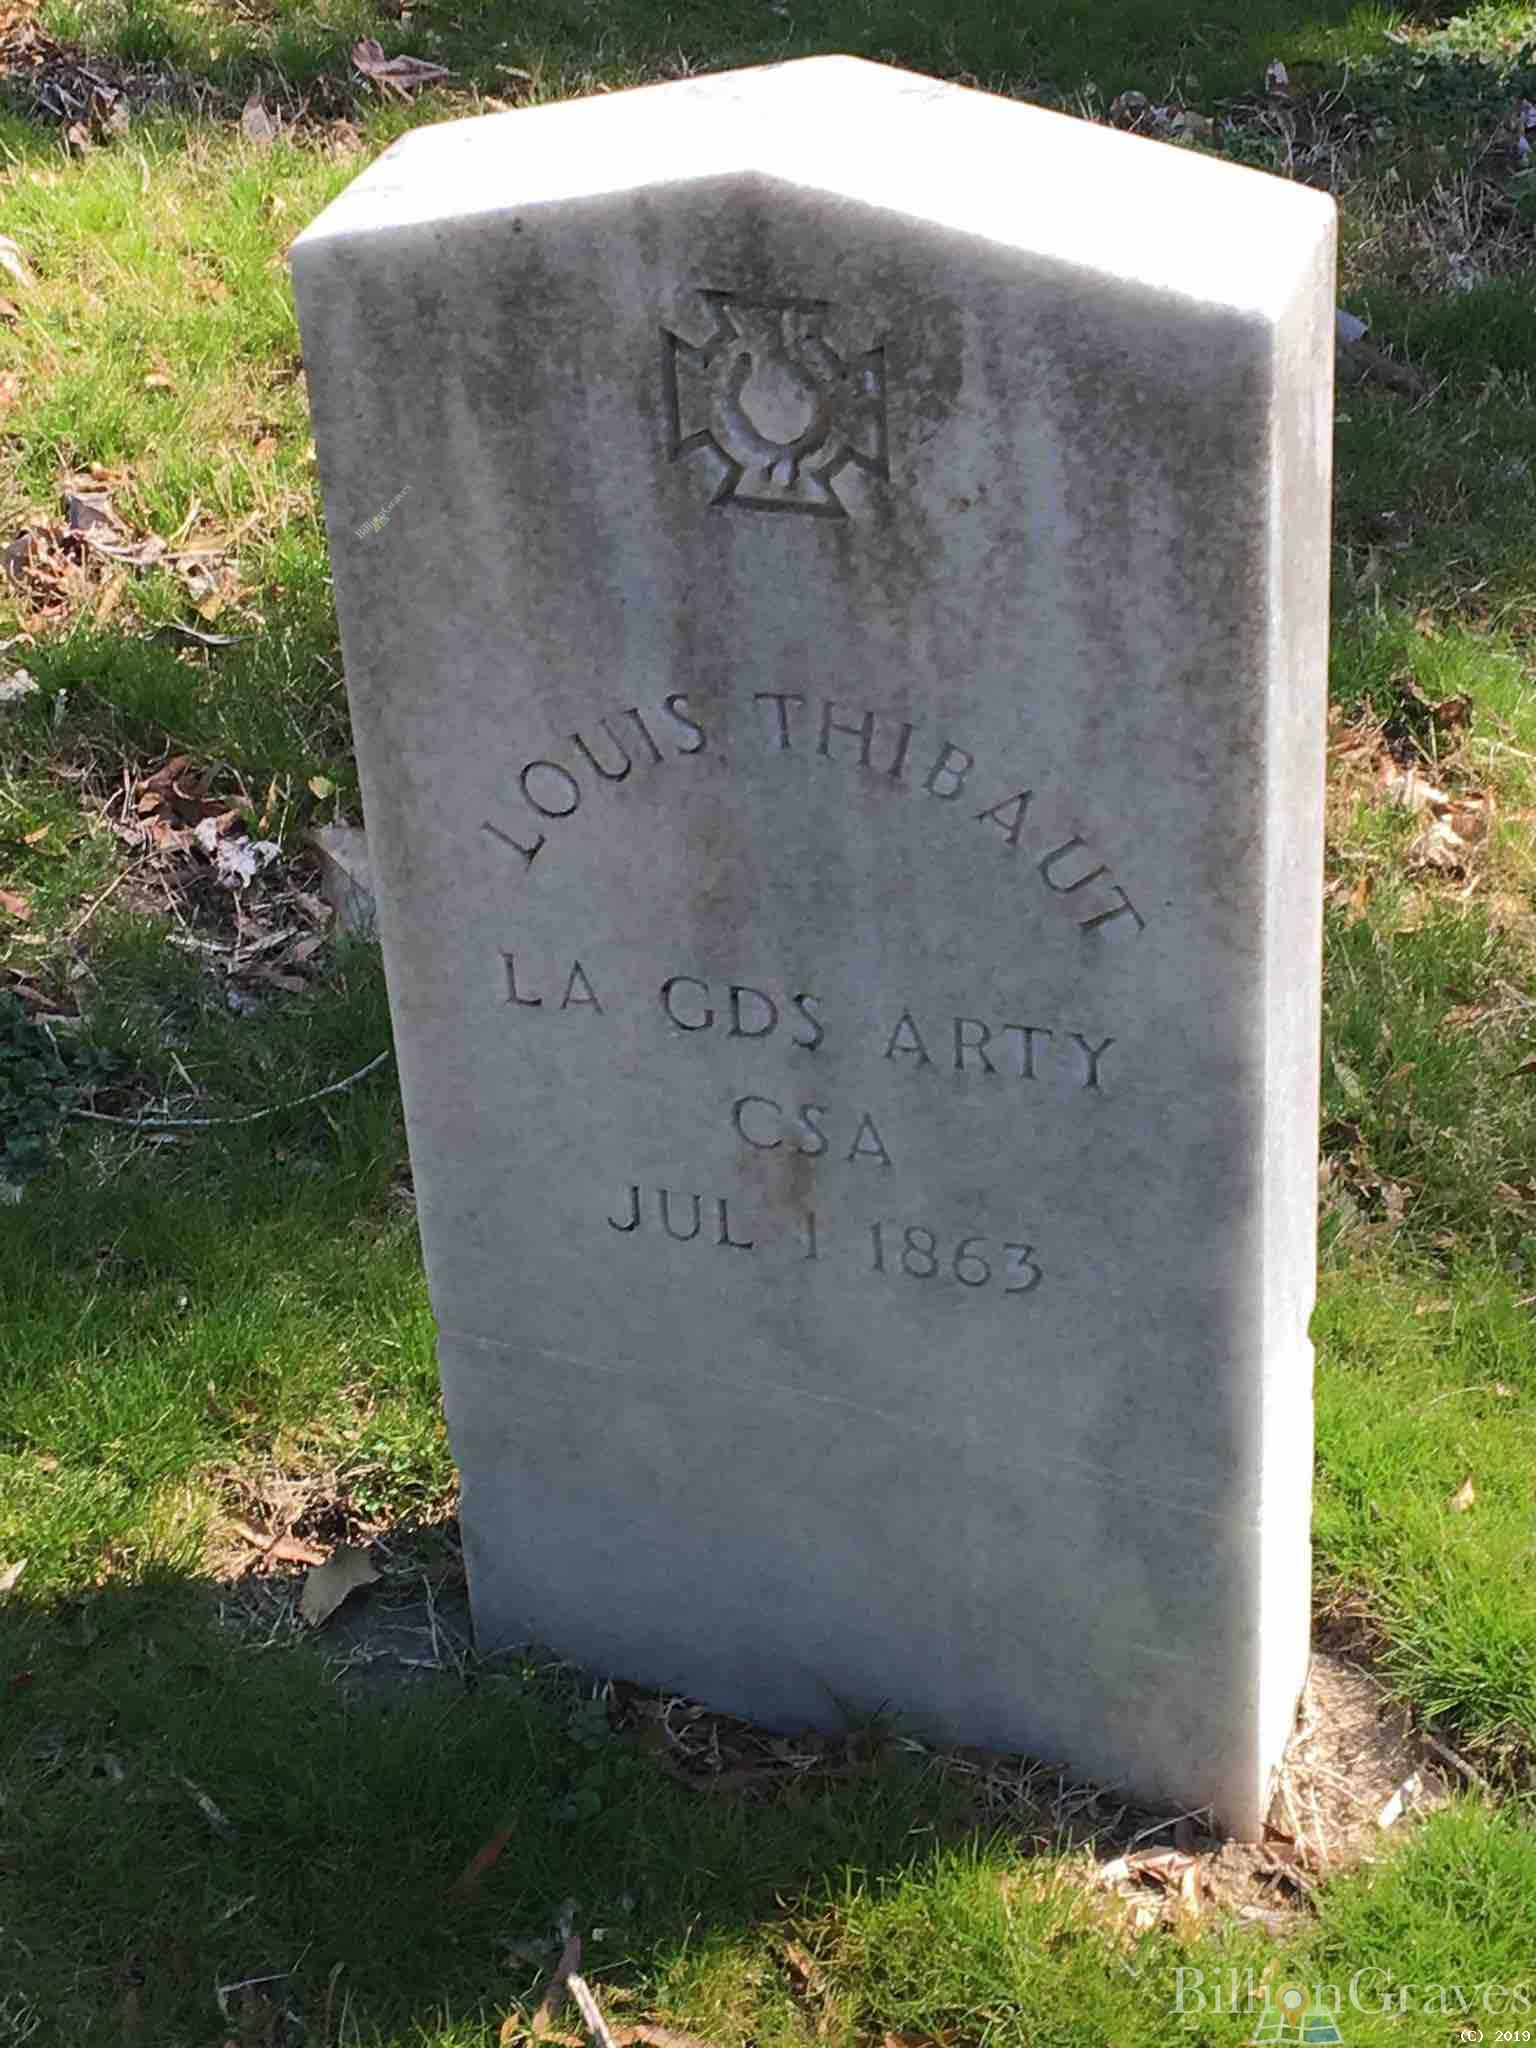military: (287, 55, 1338, 1837)
